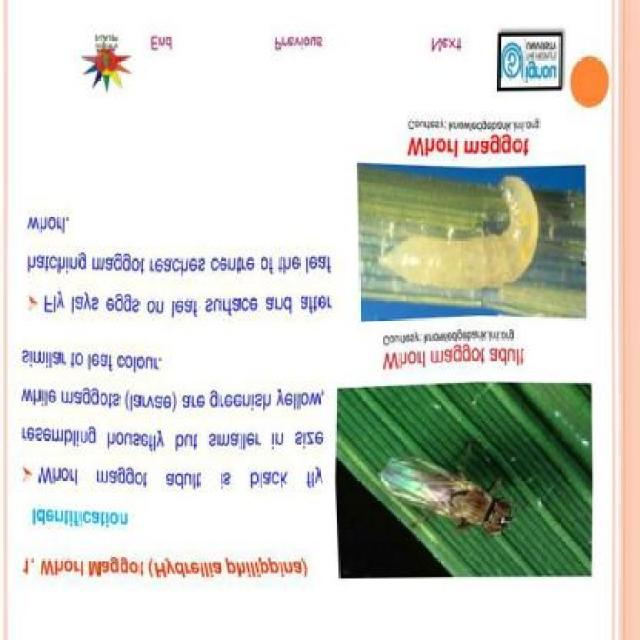whorl-maggot: (372, 170, 546, 304)
